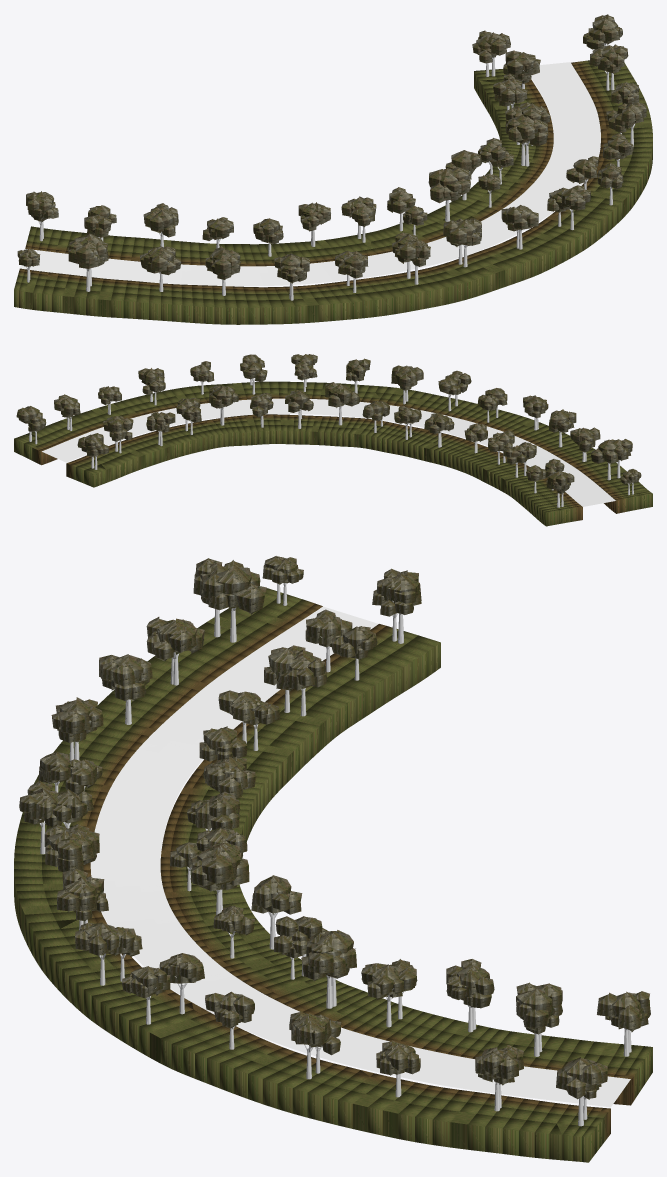
The model's file is forest_shell.glb.
The picture shows the model from 3 angles, top to bottom: view 1: azimuth 30°, elevation 25°; view 2: azimuth 150°, elevation 25°; view 3: azimuth 270°, elevation 25°; orthographic projection. The views are drawn at different scales.
Parts seen in each view (by area): view 1: forest_bank, forest_trees, forest_water; view 2: forest_bank, forest_trees, forest_water; view 3: forest_bank, forest_trees, forest_water.
Boxes of the visible parts, x1=… form: forest_bank: x1=14, y1=60, x2=652, y2=324; forest_trees: x1=17, y1=14, x2=646, y2=300; forest_water: x1=20, y1=62, x2=600, y2=286; forest_bank: x1=14, y1=381, x2=652, y2=526; forest_trees: x1=16, y1=354, x2=641, y2=507; forest_water: x1=42, y1=398, x2=615, y2=506; forest_bank: x1=14, y1=588, x2=652, y2=1162; forest_trees: x1=19, y1=556, x2=650, y2=1126; forest_water: x1=90, y1=606, x2=630, y2=1107.
Bounding box in the file's own units: 263 × 31.38 × 137.
Materials: 4 (2 with a texture image).
